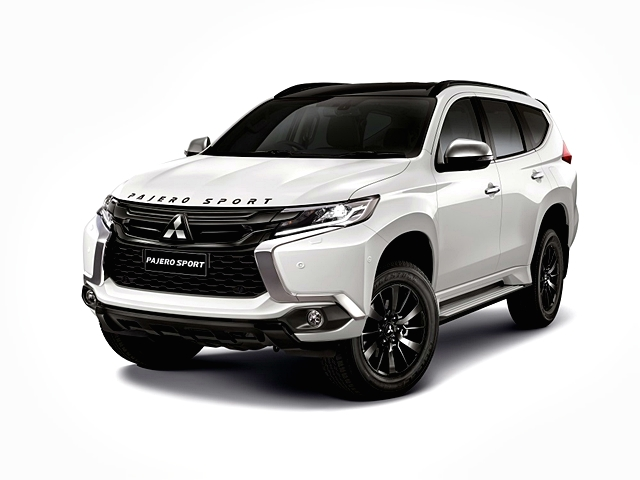pickup: (80, 79, 580, 402)
